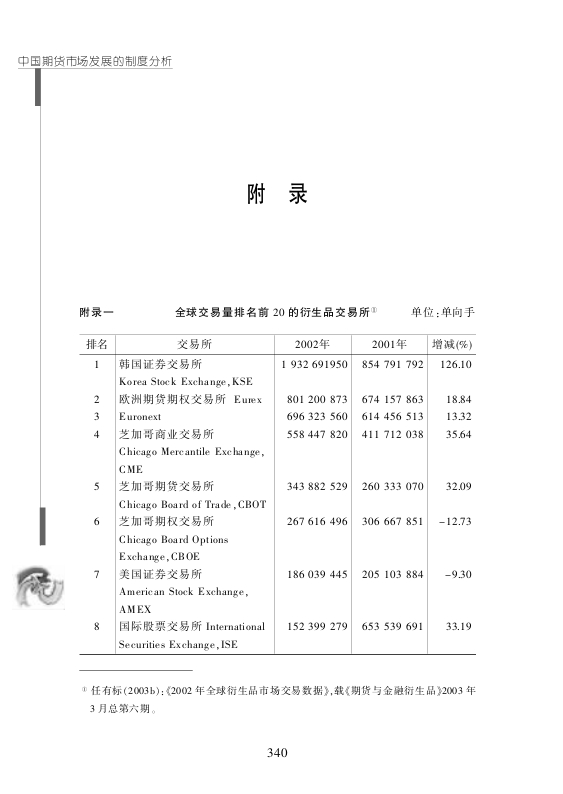table: (79, 334, 476, 655)
